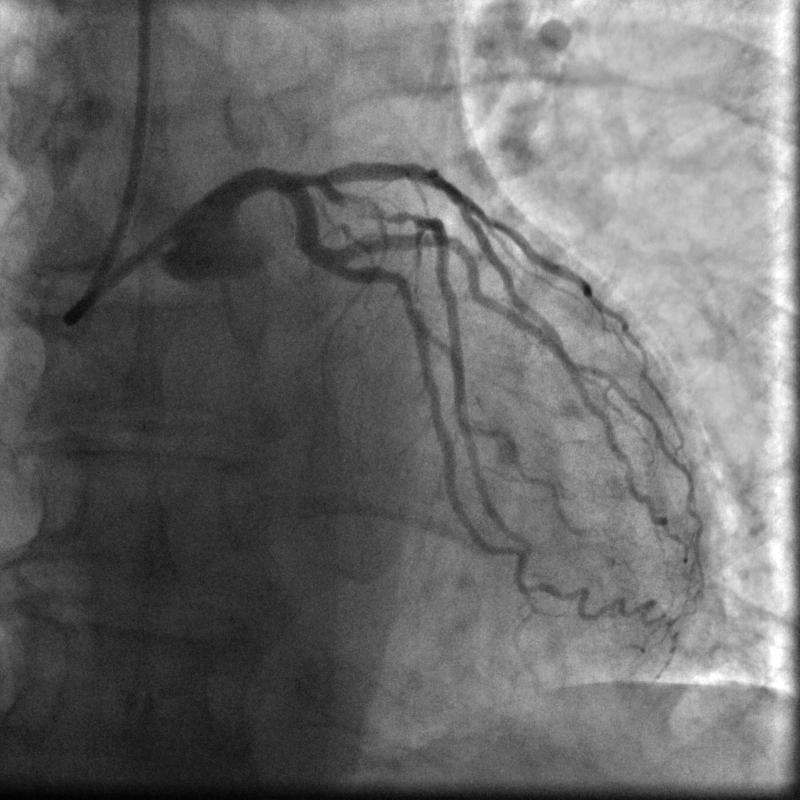Stenosis: (333, 183, 404, 229)
